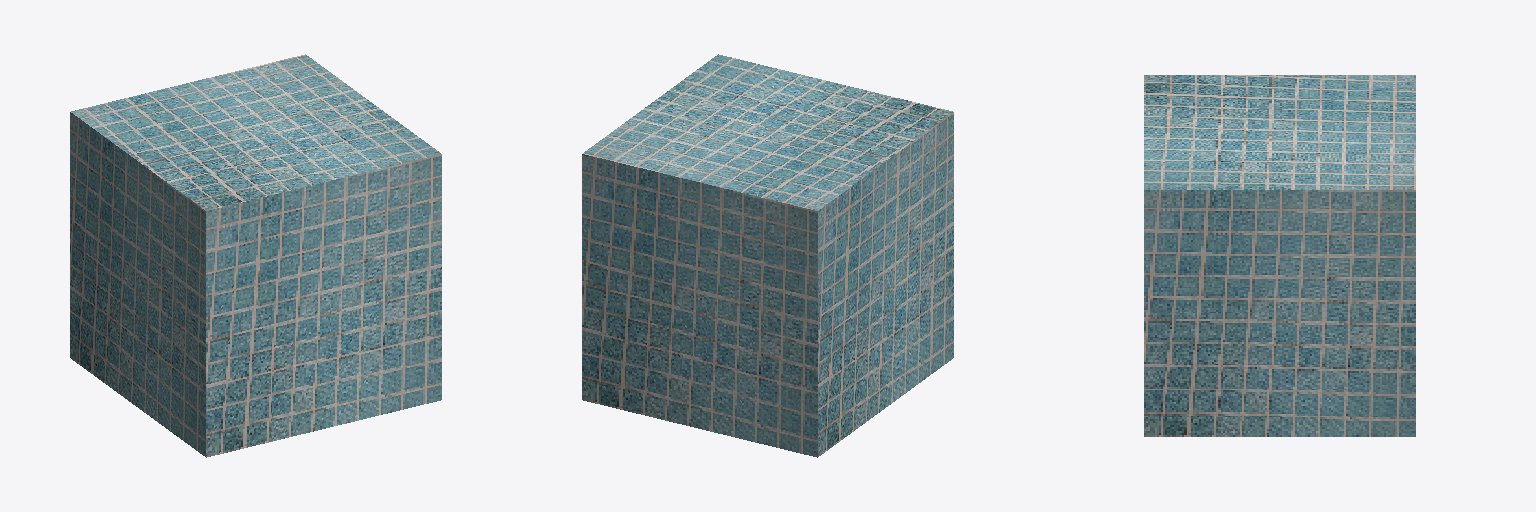
3 renders of one model, left to right at view 1: azimuth 30°, elevation 25°; view 2: azimuth 150°, elevation 25°; view 3: azimuth 270°, elevation 25°, orthographic.
Parts seen in each view (by area): view 1: cuboid; view 2: cuboid; view 3: cuboid.
Part boxes in pixels (bbox=[...]): cuboid: bbox=[70, 54, 441, 457]; cuboid: bbox=[582, 54, 953, 457]; cuboid: bbox=[1144, 75, 1415, 436].
Bounding box in the file's own units: 1 × 1 × 1.
1 materials, 1 textured.